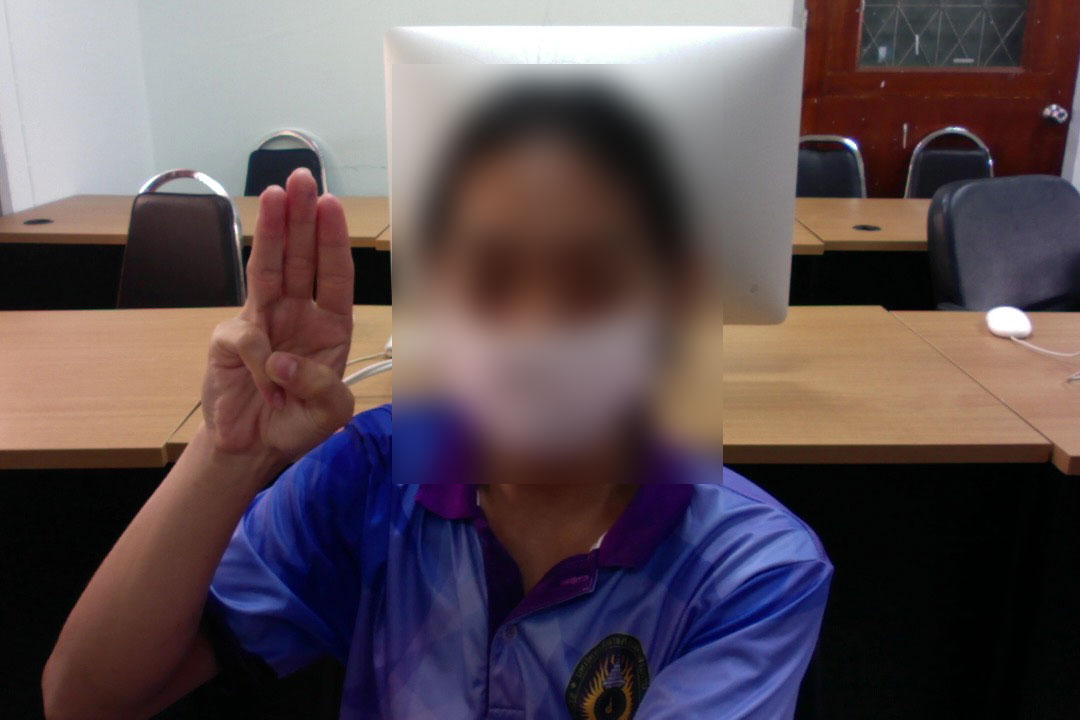wor: (186, 173, 371, 471)
